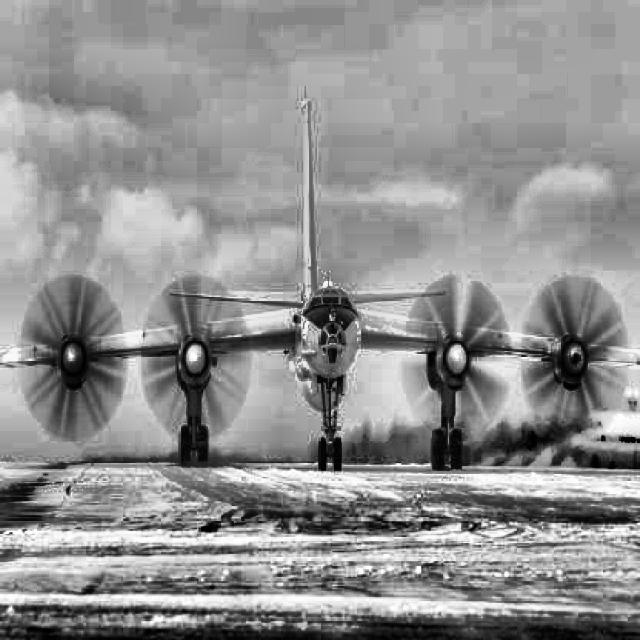Tu95: (0, 86, 640, 472)
